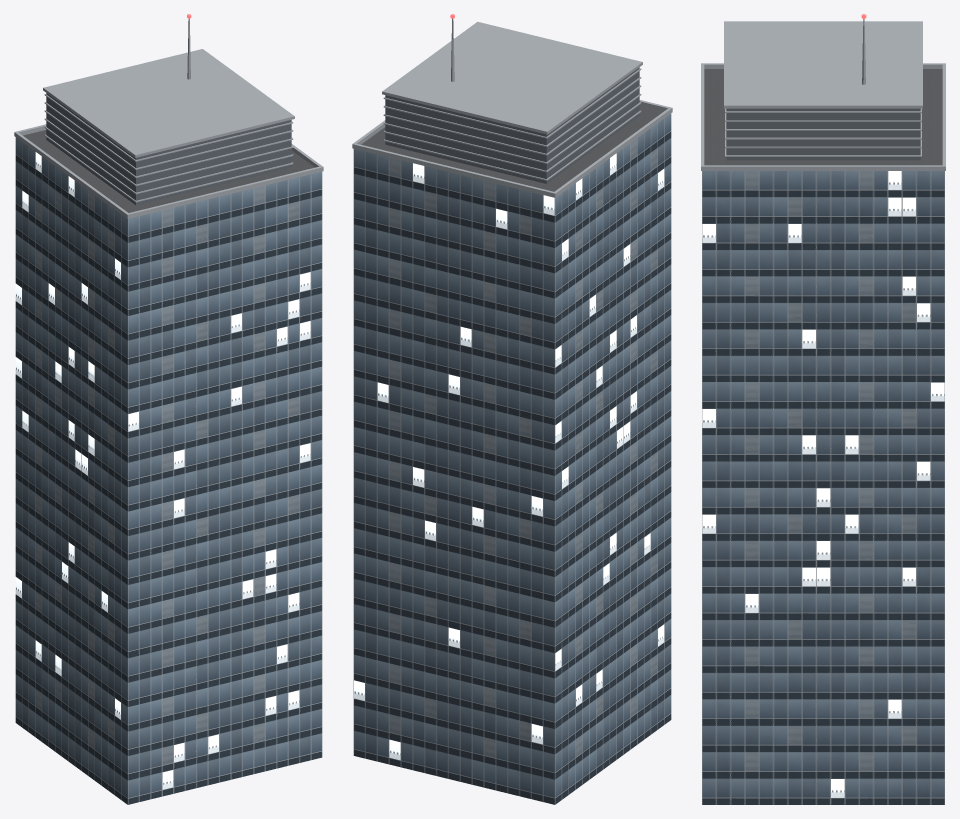
Rendered from Tower1.fbx.
The picture shows the model from 3 angles, left to right: view 1: azimuth 30°, elevation 25°; view 2: azimuth 150°, elevation 25°; view 3: azimuth 270°, elevation 25°; orthographic projection. The views are drawn at different scales.
Visible parts, largest first — view 1: Tower1_Mesh; view 2: Tower1_Mesh; view 3: Tower1_Mesh.
Part boxes in pixels (x1,y1,x2,y2): Tower1_Mesh: [14, 14, 323, 804]; Tower1_Mesh: [352, 14, 672, 804]; Tower1_Mesh: [701, 14, 945, 804].
Bounding box in the file's own units: 30.24 × 104 × 30.24.
